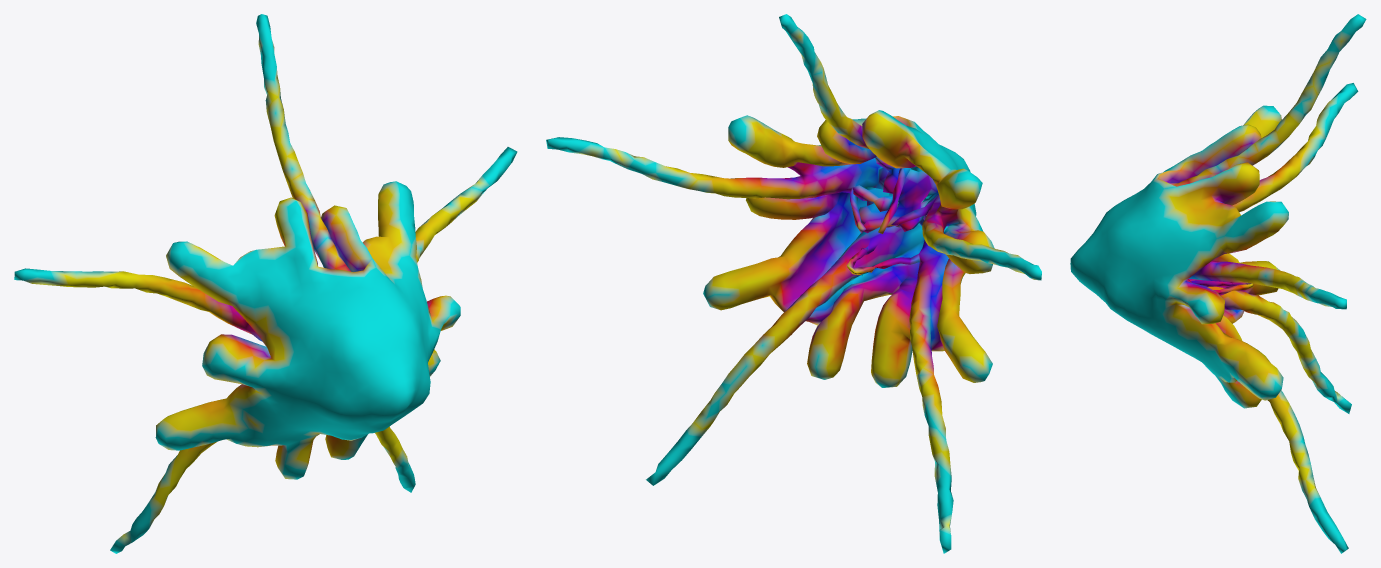
The model's file is jelly_22.gltf.
3 views of the same model, side by side, from view 1: azimuth 30°, elevation 25°; view 2: azimuth 150°, elevation 25°; view 3: azimuth 270°, elevation 25° (orthographic). The views are drawn at different scales.
Visible parts, largest first — view 1: jellysquid3; view 2: jellysquid3; view 3: jellysquid3.
Boxes of the visible parts, x1,y1,x2,y2 form: jellysquid3: (14, 14, 517, 553); jellysquid3: (546, 14, 1041, 553); jellysquid3: (1070, 14, 1366, 553).
Bounding box in the file's own units: 20.13 × 19.65 × 11.08.
